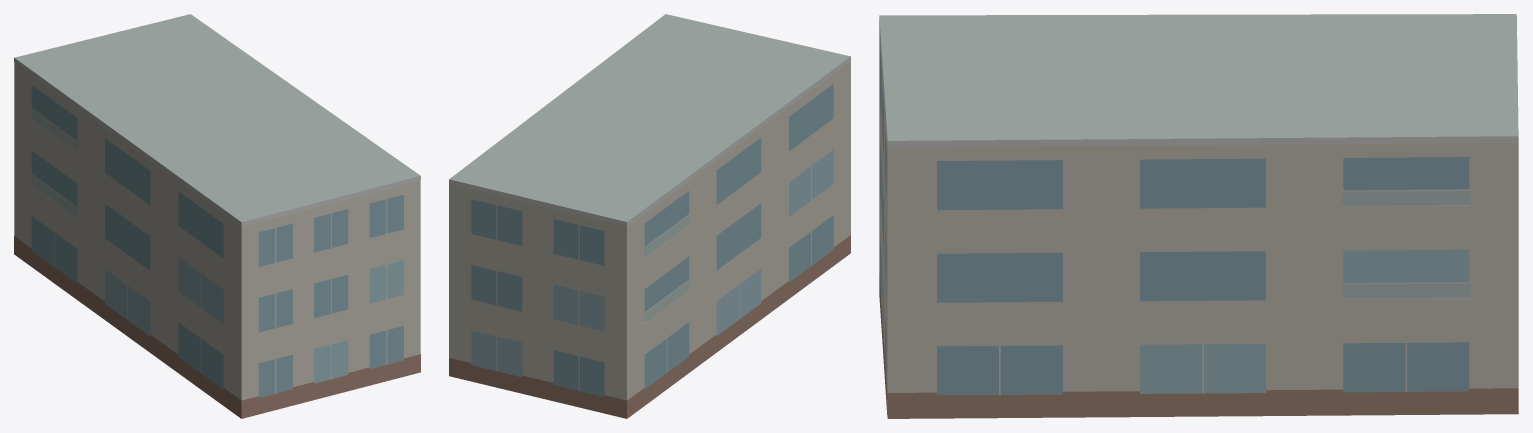
File: survey-upis-32741442.glb
The picture shows the model from 3 angles, left to right: view 1: azimuth 30°, elevation 25°; view 2: azimuth 150°, elevation 25°; view 3: azimuth 270°, elevation 25°; orthographic projection. The views are drawn at different scales.
Visible parts, largest first — view 1: survey-upis-32741442.tmp; view 2: survey-upis-32741442.tmp; view 3: survey-upis-32741442.tmp.
Boxes of the visible parts, <box> form: survey-upis-32741442.tmp: <box>14,14,420,418</box>; survey-upis-32741442.tmp: <box>449,14,850,418</box>; survey-upis-32741442.tmp: <box>879,14,1518,418</box>.
Bounding box in the file's own units: 9.93 × 10.1 × 21.06.
